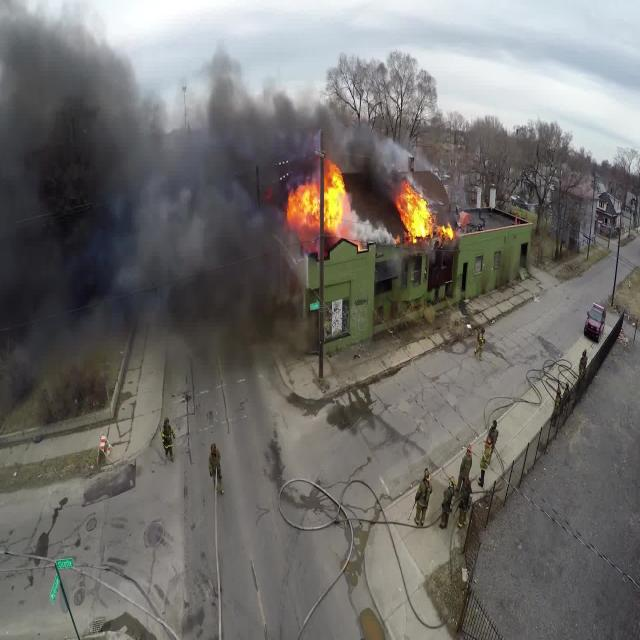fire: (291, 169, 341, 230), (396, 197, 446, 250)
smoke: (1, 65, 278, 353)
